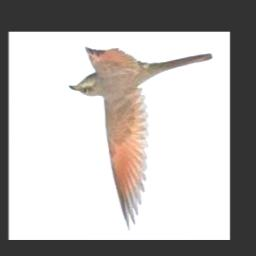Cuckoo: (68, 48, 212, 231)
